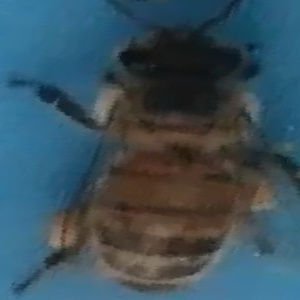bee: (45, 12, 292, 300)
